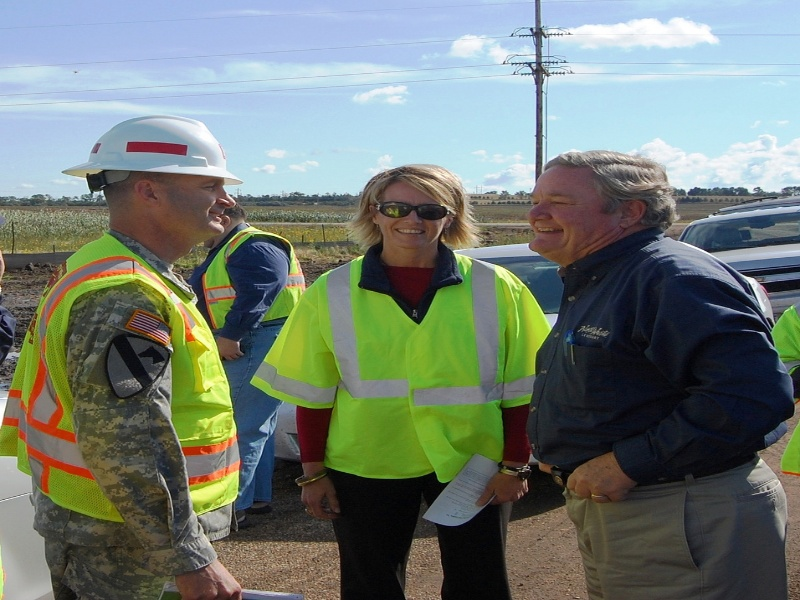Baret: (64, 114, 245, 184)
